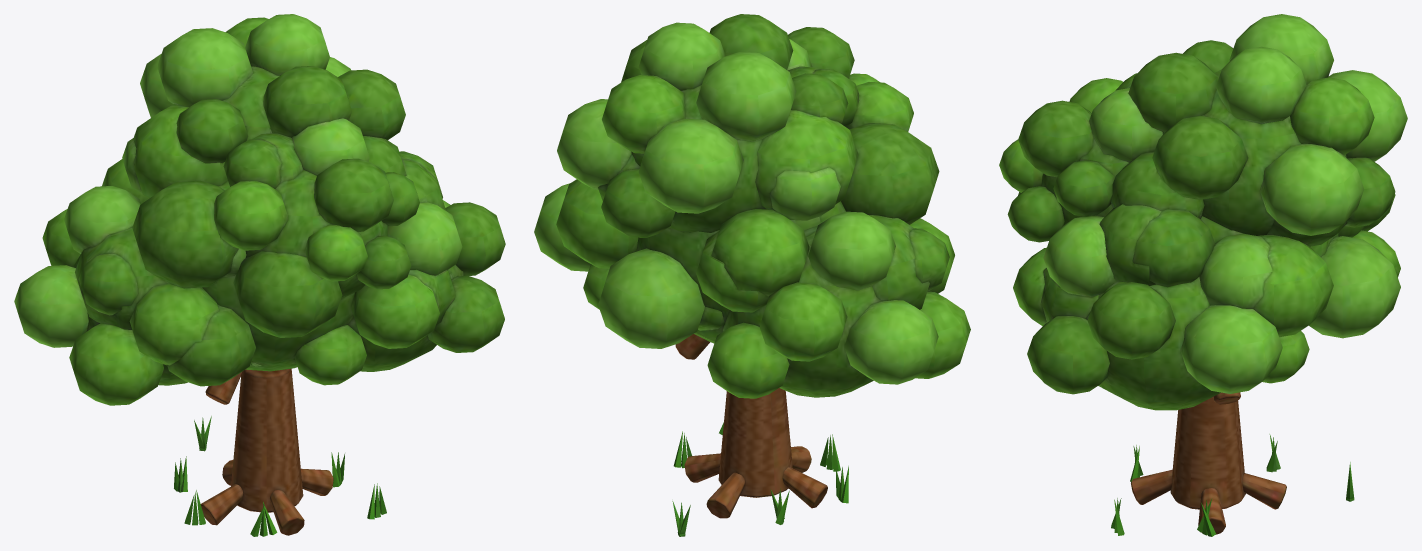
The model's file is guava_tree.glb.
The picture shows the model from 3 angles, left to right: view 1: azimuth 30°, elevation 25°; view 2: azimuth 150°, elevation 25°; view 3: azimuth 270°, elevation 25°; orthographic projection. The views are drawn at different scales.
Visible parts, largest first — view 1: crown, guava_tree; view 2: crown, guava_tree; view 3: crown, guava_tree.
Boxes of the visible parts, x1,y1,x2,y2 form: crown: (14, 14, 505, 405); guava_tree: (174, 368, 386, 536); crown: (534, 14, 970, 398); guava_tree: (672, 334, 848, 536); crown: (999, 14, 1407, 410); guava_tree: (1111, 392, 1354, 536).
Bounding box in the file's own units: 1.16 × 1.24 × 0.9601.
Materials: 1 (1 with a texture image).
